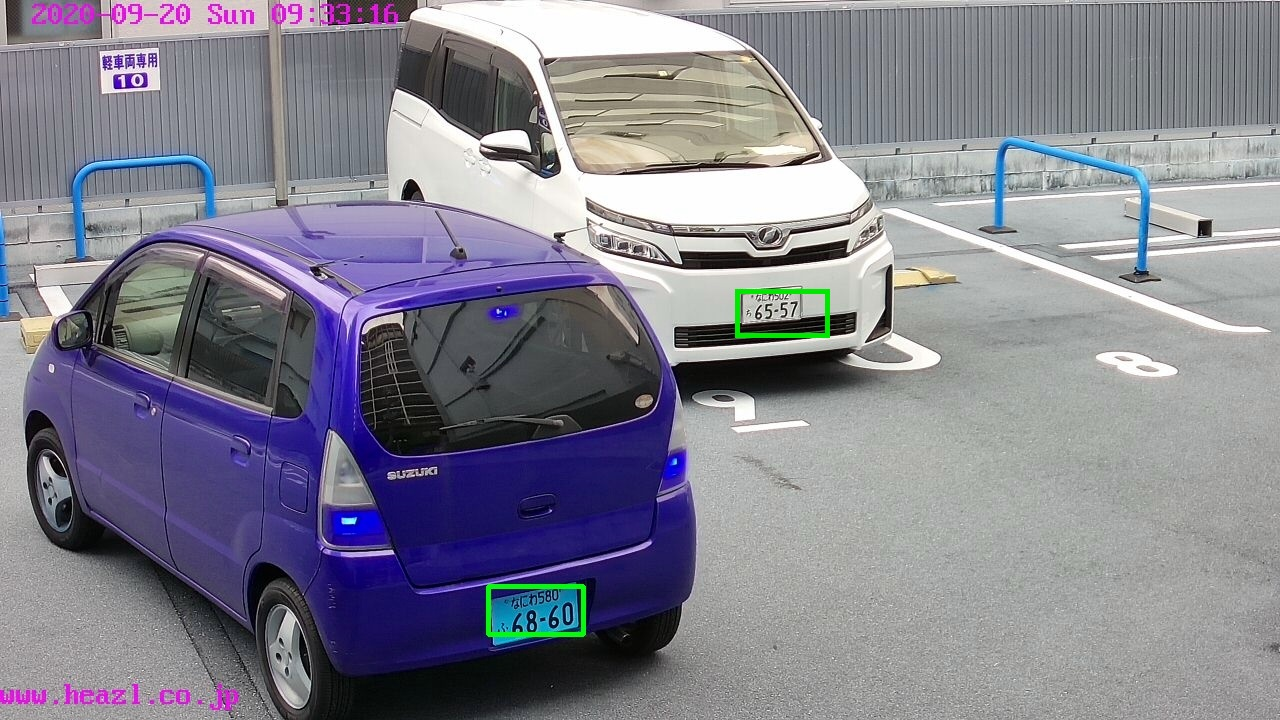number_plate: (496, 589, 576, 636), (742, 288, 802, 321)
